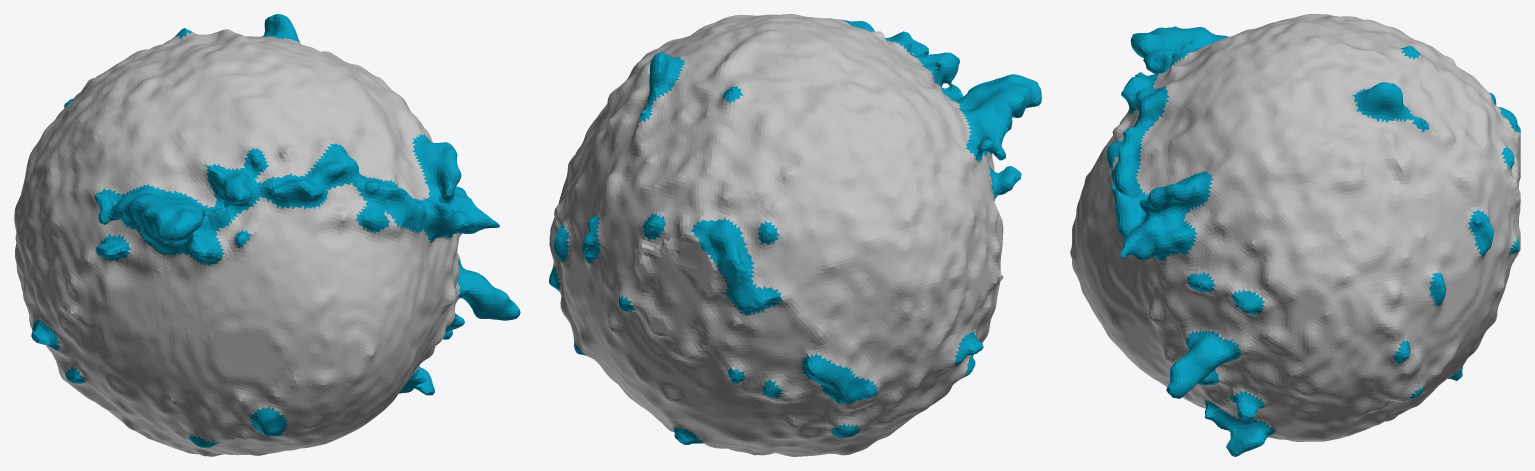
The picture shows the model from 3 angles, left to right: view 1: azimuth 30°, elevation 25°; view 2: azimuth 150°, elevation 25°; view 3: azimuth 270°, elevation 25°; orthographic projection. The views are drawn at different scales.
Size of the model in its own units: 95.76 by 87.59 by 93.03.
